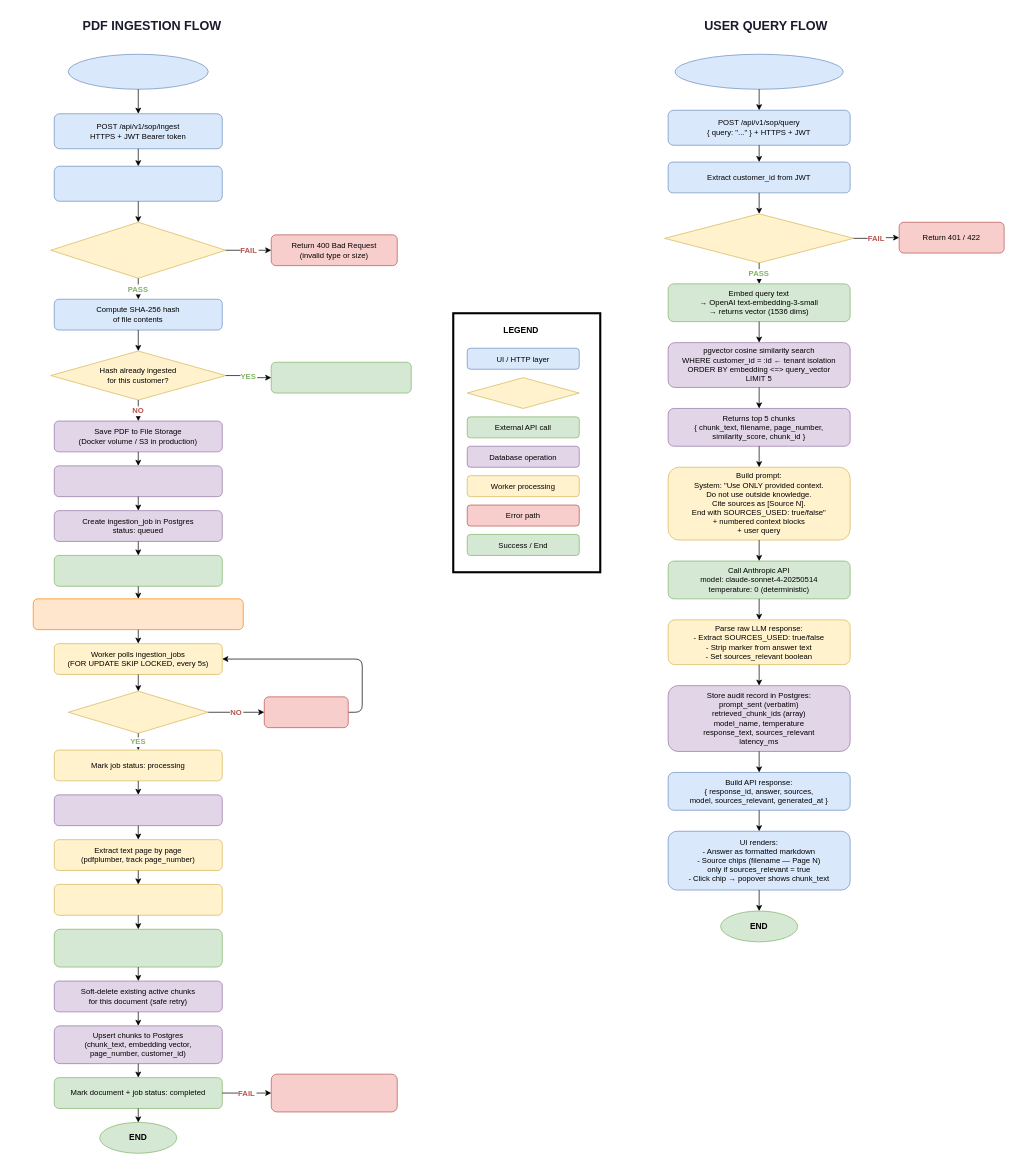
The diagram is 1016 pixels wide and 1166 high, and some of its shapes have lost their labels. The box of each missing label's shape, as (x1, y1, x2, y2) in pixels:
Batch embed chunks → OpenAI text-embedding-3-small (max 100 chunks per API call): (54, 929, 222, 967)
Chunk text (512 tokens, 50 overlap, paragraph-aware): (54, 884, 222, 915)
Create document record in Postgres status: pending: (54, 465, 222, 497)
Decision / Validation: (467, 377, 579, 408)
Extract customer_id from JWT (never from request body): (54, 166, 222, 201)
Job found?: (68, 691, 208, 733)
Mark status: failed Store error_message Worker loop continues: (271, 1073, 397, 1112)
Read PDF from File Storage: (54, 794, 222, 826)
Return 202 Accepted (skipped — duplicate content): (271, 362, 411, 393)
Return 202 Accepted { job_id, document_id, status: queued }: (54, 555, 222, 586)
Sleep 5s poll again: (264, 696, 348, 728)
User selects PDF in UI: (68, 54, 208, 89)
User types question in Chat UI: (674, 54, 843, 89)
Validate File Magic bytes = %PDF? Size ≤ 10MB?: (50, 222, 226, 278)
Validate request query field present? token valid?: (664, 213, 854, 263)
━━━━━ASYNC BOUNDARY ━━━━━━ HTTP response returned. Background work begins.: (33, 598, 243, 630)
